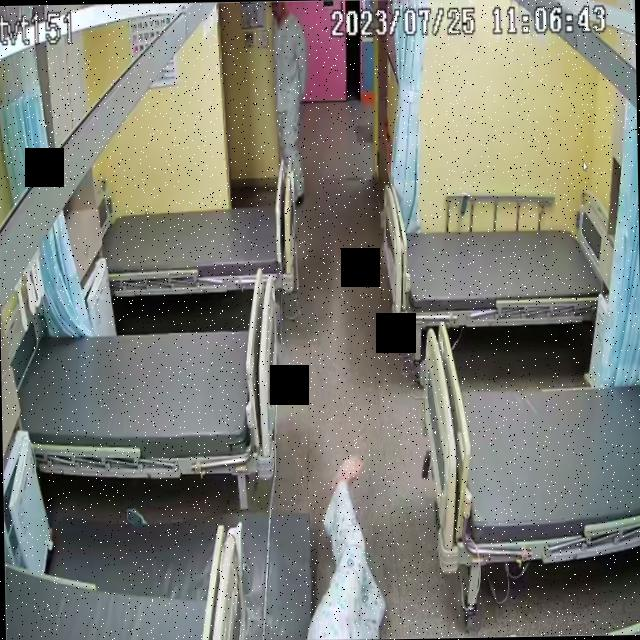bed: (420, 318, 640, 567), (14, 318, 280, 476), (380, 208, 616, 331), (102, 193, 294, 294)
fall: (304, 454, 384, 640)
move: (268, 0, 308, 194)
patient: (304, 454, 386, 640), (270, 0, 308, 194)
